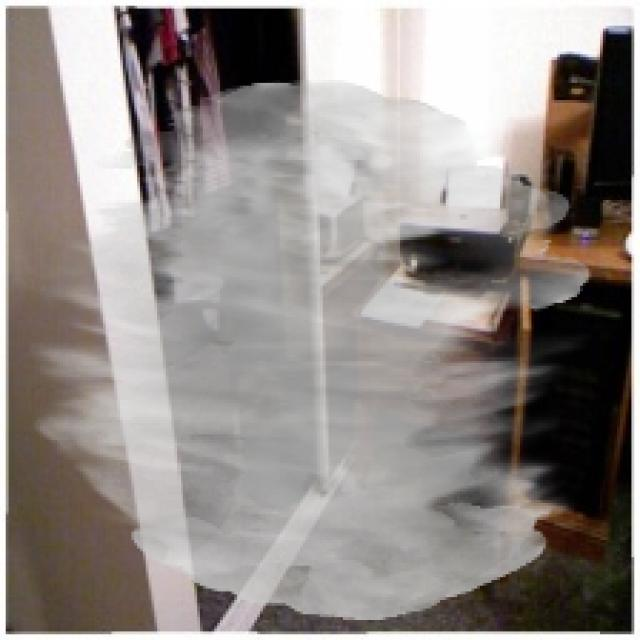smoke: (29, 80, 592, 620)
